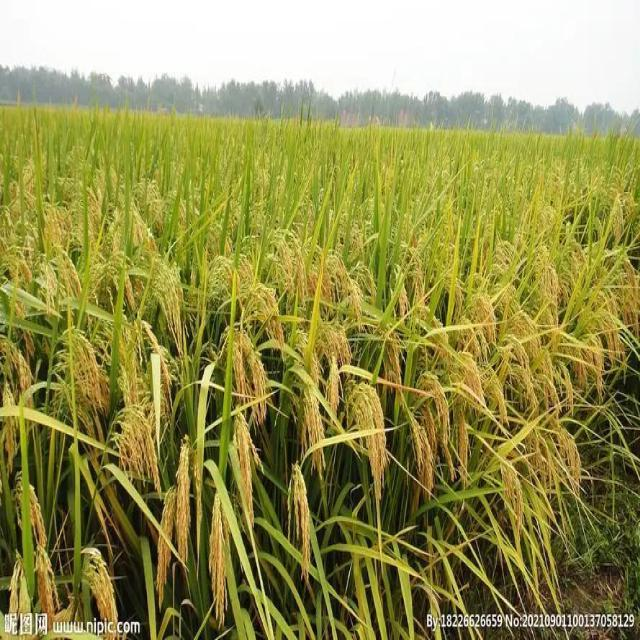Padi: (138, 446, 236, 626), (492, 322, 594, 422), (64, 510, 138, 622), (46, 320, 124, 418), (402, 346, 484, 438), (480, 440, 556, 538), (216, 256, 300, 332), (348, 374, 410, 476), (278, 374, 336, 470), (212, 428, 272, 520), (90, 400, 174, 464), (32, 246, 134, 296)
